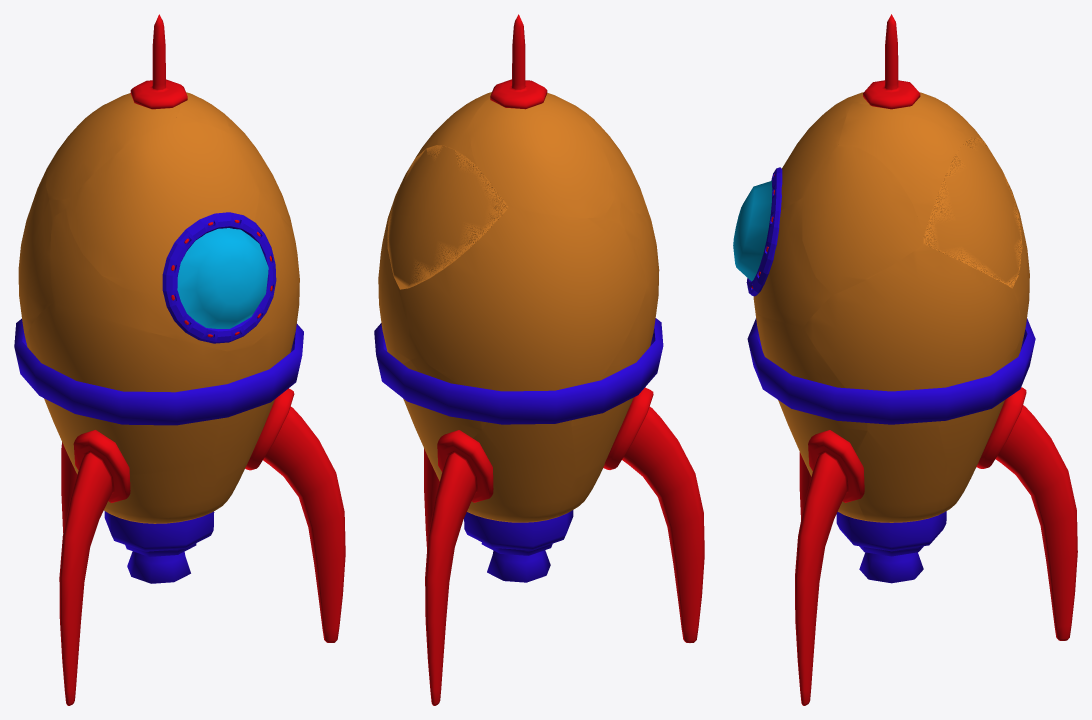
Rendered from Ship Orange Fractured.fbx.
3 views of the same model, side by side, from view 1: azimuth 30°, elevation 25°; view 2: azimuth 150°, elevation 25°; view 3: azimuth 270°, elevation 25° (orthographic).
Visible parts, largest first — view 1: boddy.001_shard.011, Arm.001, boddy.001_shard.006, boddy.001_shard, boddy.belt, win.001, boddy.001_shard.008, boddy.001_shard.014, boddy.001_shard.005, fire-nozzle, win-frem, boddy.001_shard.009 (+4 smaller); view 2: boddy.001_shard.009, Arm.001, boddy.001_shard.008, boddy.001_shard.013, boddy.belt, boddy.001_shard.004, fire-nozzle, boddy.001_shard.006, boddy.001_shard.007, boddy.001_shard.002, head, boddy.001_shard.001 (+3 smaller); view 3: boddy.001_shard.007, Arm.001, boddy.001_shard.010, boddy.belt, boddy.001_shard.013, boddy.001_shard.012, boddy.001_shard.001, boddy.001_shard.005, boddy.001_shard, fire-nozzle, boddy.001_shard.011, win.001 (+6 smaller).
Part boxes in pixels (left/top/right/bottom): boddy.001_shard.011: left=65, top=120, right=259, bottom=293; Arm.001: left=59, top=388, right=345, bottom=705; boddy.001_shard.006: left=26, top=302, right=240, bottom=474; boddy.001_shard: left=50, top=188, right=298, bottom=353; boddy.belt: left=14, top=318, right=303, bottom=425; win.001: left=177, top=228, right=268, bottom=328; boddy.001_shard.008: left=46, top=93, right=181, bottom=199; boddy.001_shard.014: left=69, top=457, right=217, bottom=523; boddy.001_shard.005: left=211, top=292, right=299, bottom=479; fire-nozzle: left=104, top=511, right=214, bottom=583; win-frem: left=162, top=212, right=276, bottom=343; boddy.001_shard.009: left=18, top=159, right=53, bottom=342; boddy.001_shard.009: left=400, top=207, right=647, bottom=391; Arm.001: left=424, top=387, right=704, bottom=705; boddy.001_shard.008: left=470, top=93, right=615, bottom=217; boddy.001_shard.013: left=387, top=145, right=508, bottom=289; boddy.belt: left=374, top=318, right=663, bottom=424; boddy.001_shard.004: left=423, top=420, right=576, bottom=522; fire-nozzle: left=464, top=510, right=573, bottom=582; boddy.001_shard.006: left=570, top=259, right=659, bottom=477; boddy.001_shard.007: left=378, top=198, right=418, bottom=363; boddy.001_shard.002: left=403, top=357, right=486, bottom=456; head: left=490, top=14, right=547, bottom=109; boddy.001_shard.001: left=414, top=92, right=620, bottom=221; boddy.001_shard.007: left=803, top=244, right=1020, bottom=425; Arm.001: left=795, top=387, right=1077, bottom=705; boddy.001_shard.010: left=802, top=145, right=923, bottom=294; boddy.belt: left=747, top=318, right=1035, bottom=424; boddy.001_shard.013: left=923, top=137, right=1022, bottom=288; boddy.001_shard.012: left=856, top=423, right=946, bottom=522; boddy.001_shard.001: left=838, top=103, right=972, bottom=236; boddy.001_shard.005: left=756, top=315, right=870, bottom=465; boddy.001_shard: left=753, top=197, right=832, bottom=327; fire-nozzle: left=836, top=511, right=946, bottom=583; boddy.001_shard.011: left=781, top=95, right=853, bottom=210; win.001: left=733, top=181, right=772, bottom=281.
Bounding box in the file's own units: 308 × 658 × 328.
